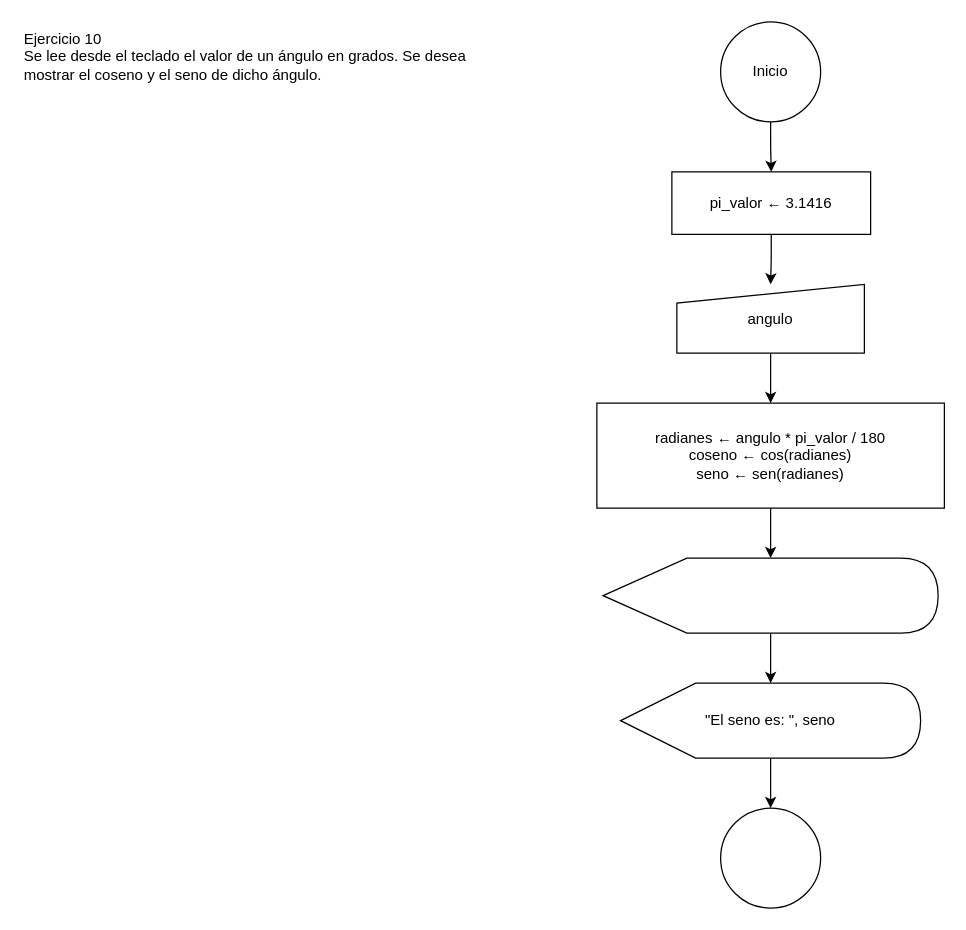
This 966x930 diagram has some shape labels left out. Here are the shapes that lost their labels. From the top down, the centre of each, then its label:
the point at 770,595: "El coseno es: ", coseno
the point at 770,857: Fin
